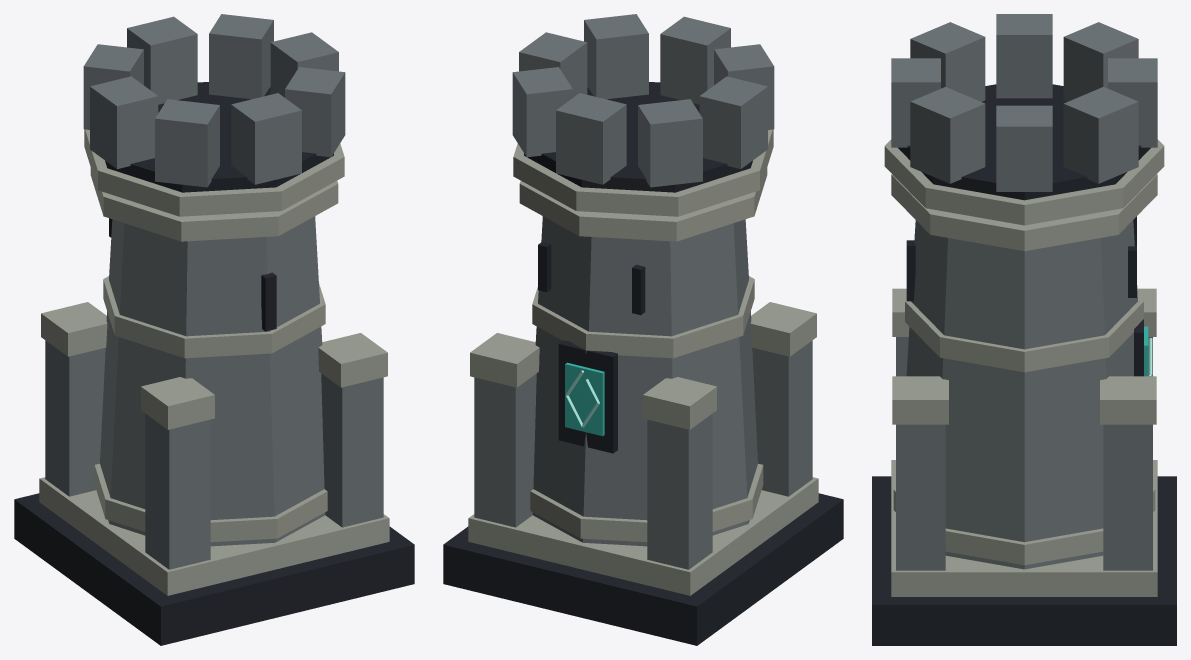
The model's file is PassTower.fbx.
3 renders of one model, left to right at view 1: azimuth 30°, elevation 25°; view 2: azimuth 150°, elevation 25°; view 3: azimuth 270°, elevation 25°, orthographic. The views are drawn at different scales.
Visible parts, largest first — view 1: PassTower; view 2: PassTower; view 3: PassTower.
Boxes of the visible parts, <box> form: PassTower: <box>14,14,414,645</box>; PassTower: <box>443,14,843,645</box>; PassTower: <box>872,14,1176,645</box>.
Bounding box in the file's own units: 1.35 × 2.5 × 1.35.
1 material, 1 textured.
